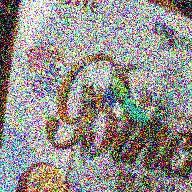러키펜정: (97, 70, 112, 90)
씨엠지세파클러캡슐: (103, 86, 124, 118)
에르도캡슐: (122, 98, 149, 129)
휴티렌정: (111, 78, 129, 102)
